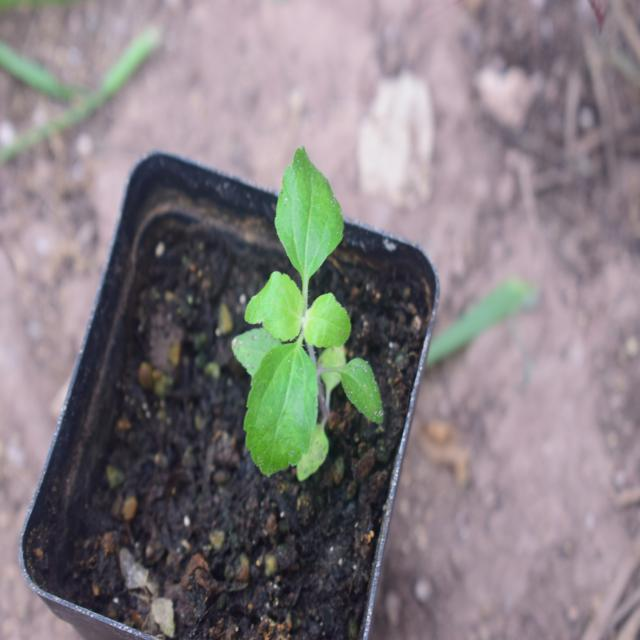billygoat_weed: (224, 159, 392, 459)
